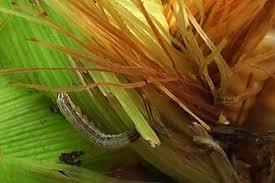fallarmy_worm: (48, 88, 151, 156)
